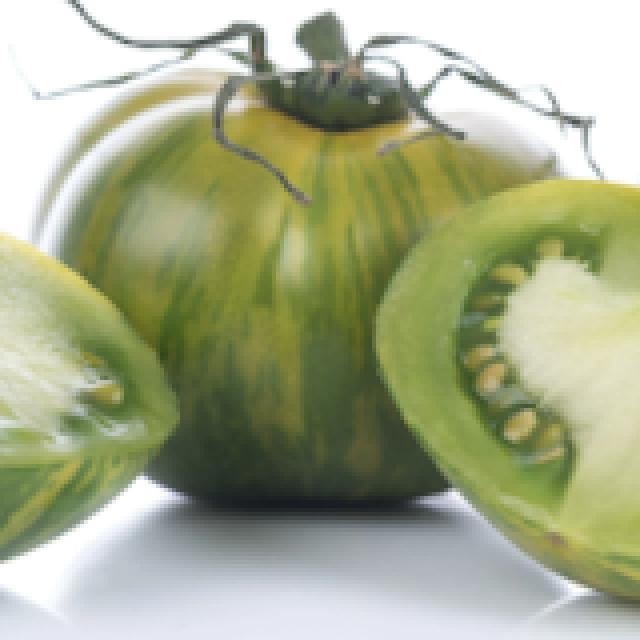yesil: (54, 71, 606, 520)
